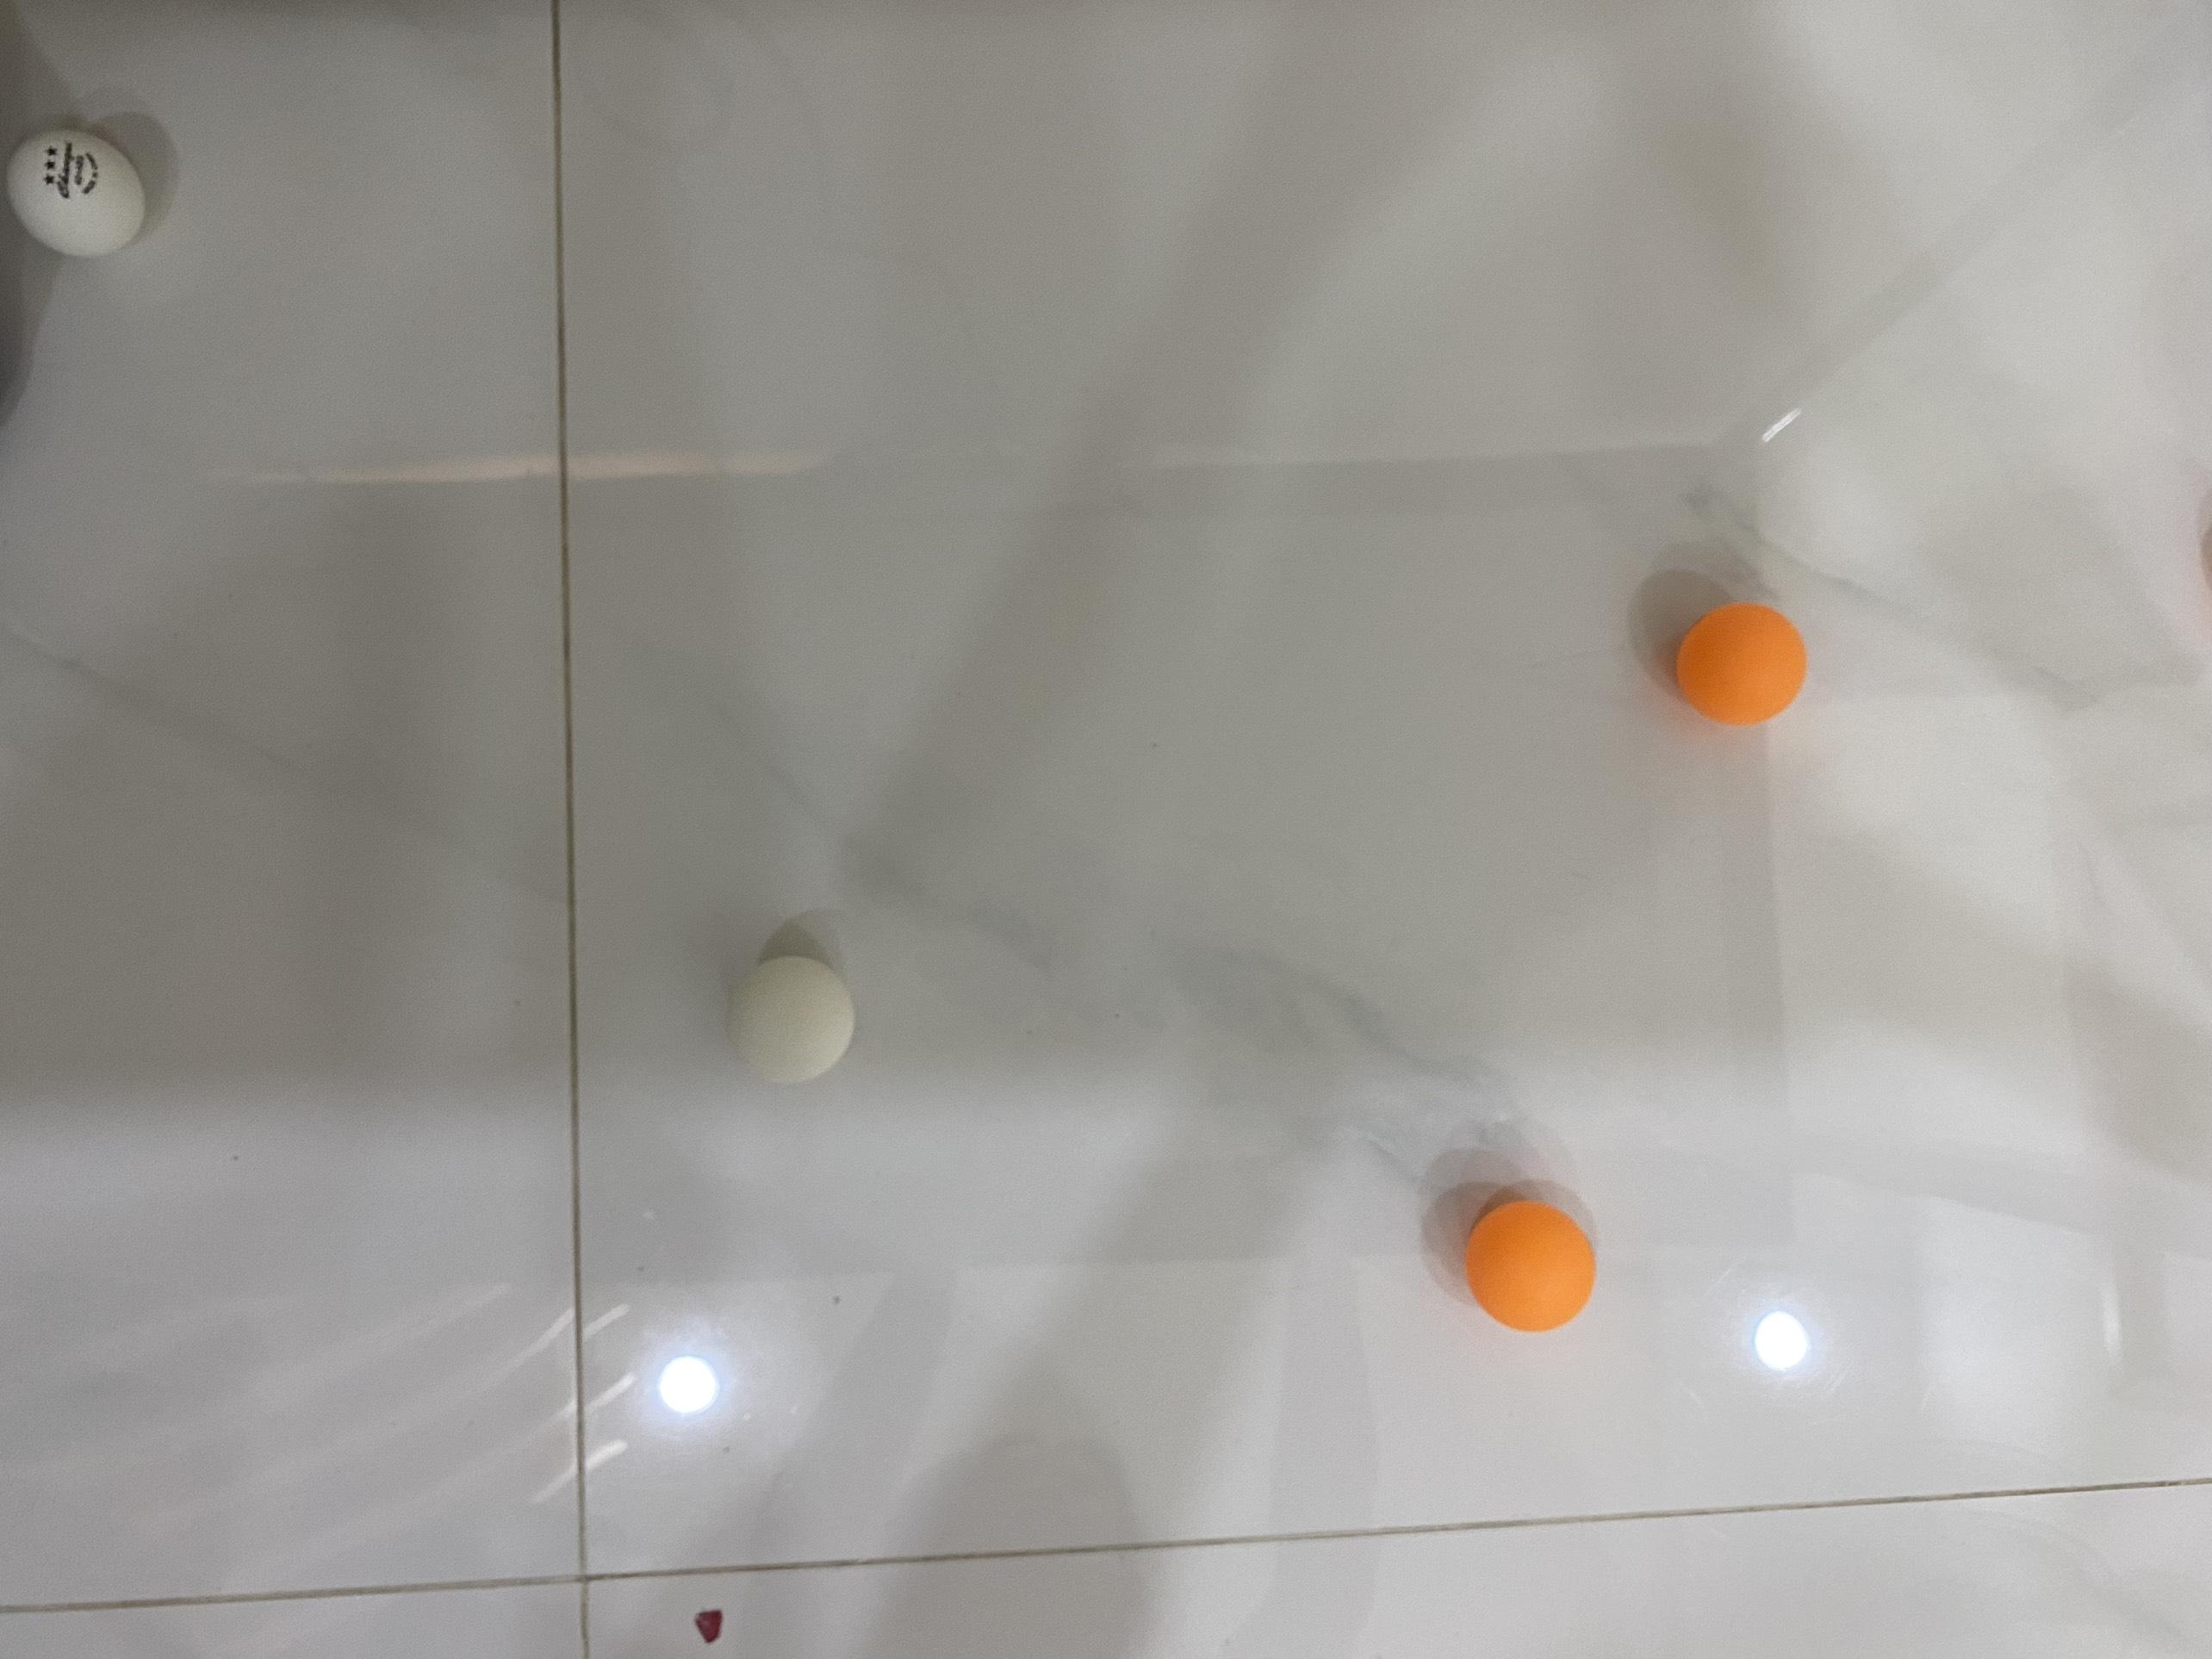oball: (1467, 1197, 1597, 1335), (1676, 603, 1815, 728)
